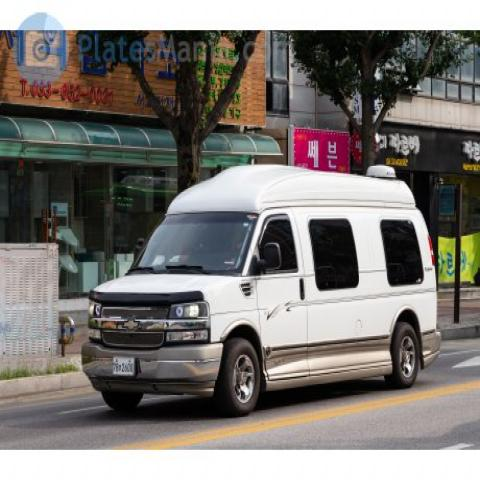LP: (105, 350, 145, 380)
